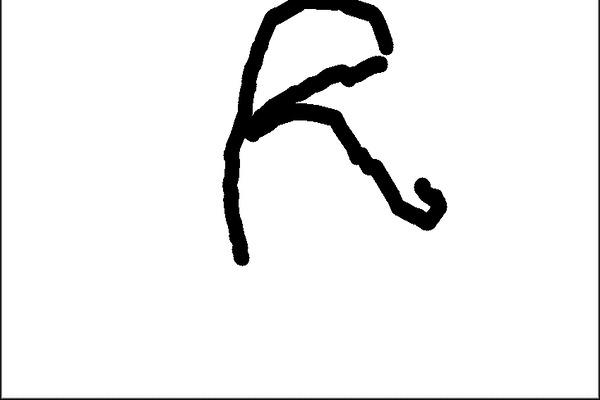R: (211, 0, 452, 290)
